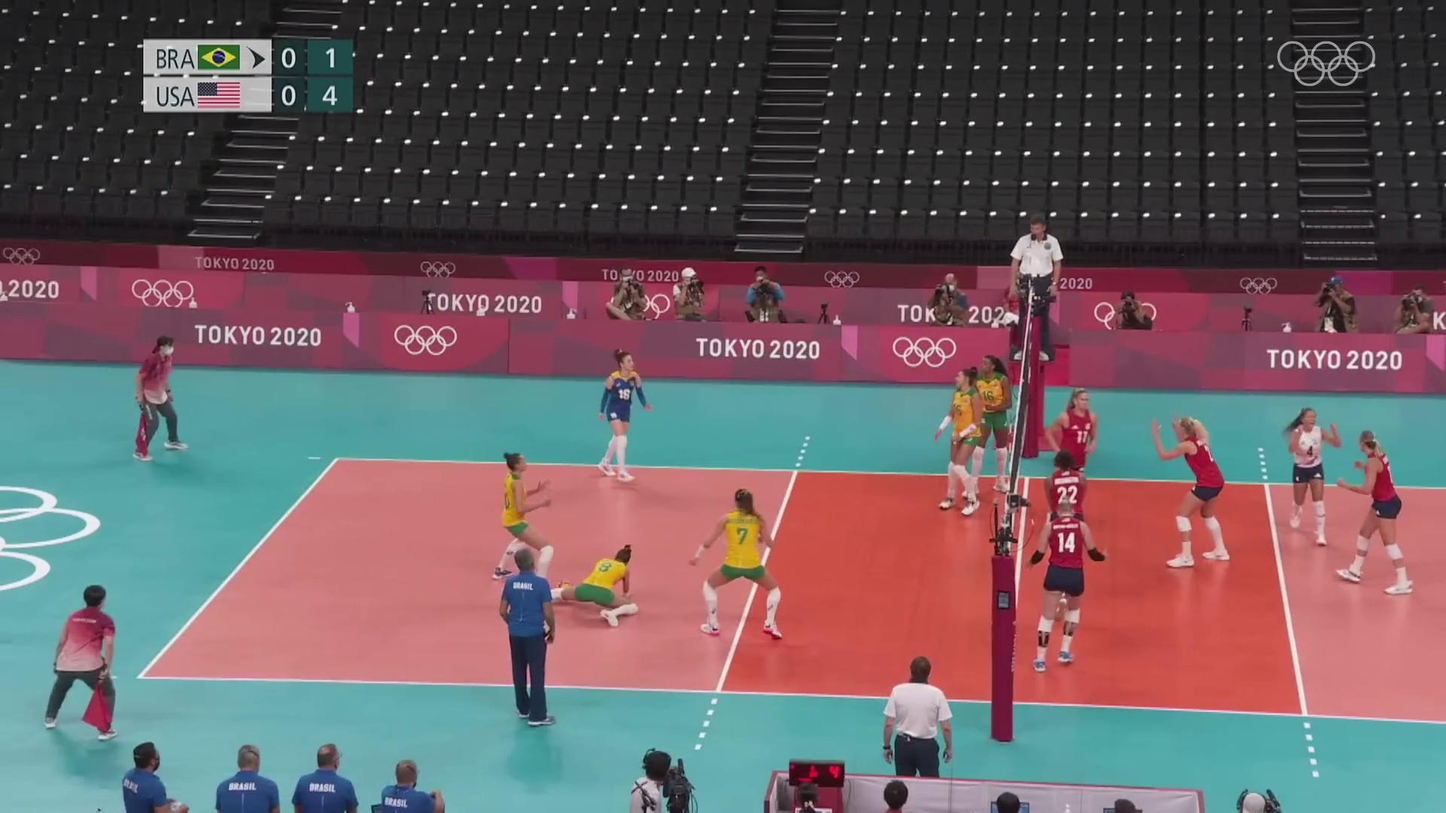player: (694, 491, 785, 637), (1028, 500, 1101, 673), (1151, 413, 1231, 570), (1341, 430, 1407, 594), (522, 546, 640, 629), (1045, 388, 1100, 544), (493, 450, 556, 581), (1042, 452, 1090, 620), (597, 350, 656, 483), (1285, 406, 1340, 547), (934, 365, 984, 520), (962, 354, 1012, 497)
refree: (42, 584, 120, 742), (882, 653, 955, 790), (1007, 215, 1064, 363), (134, 337, 190, 459)
